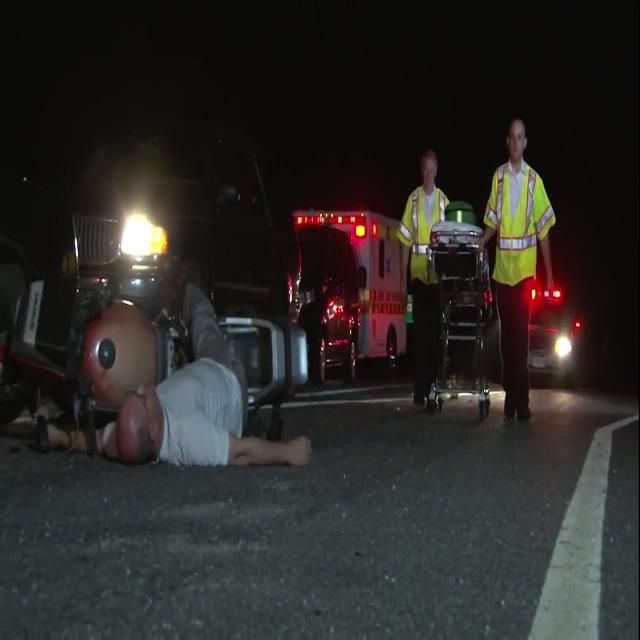Reflective-Jacket: (480, 162, 562, 306), (392, 182, 452, 297)
